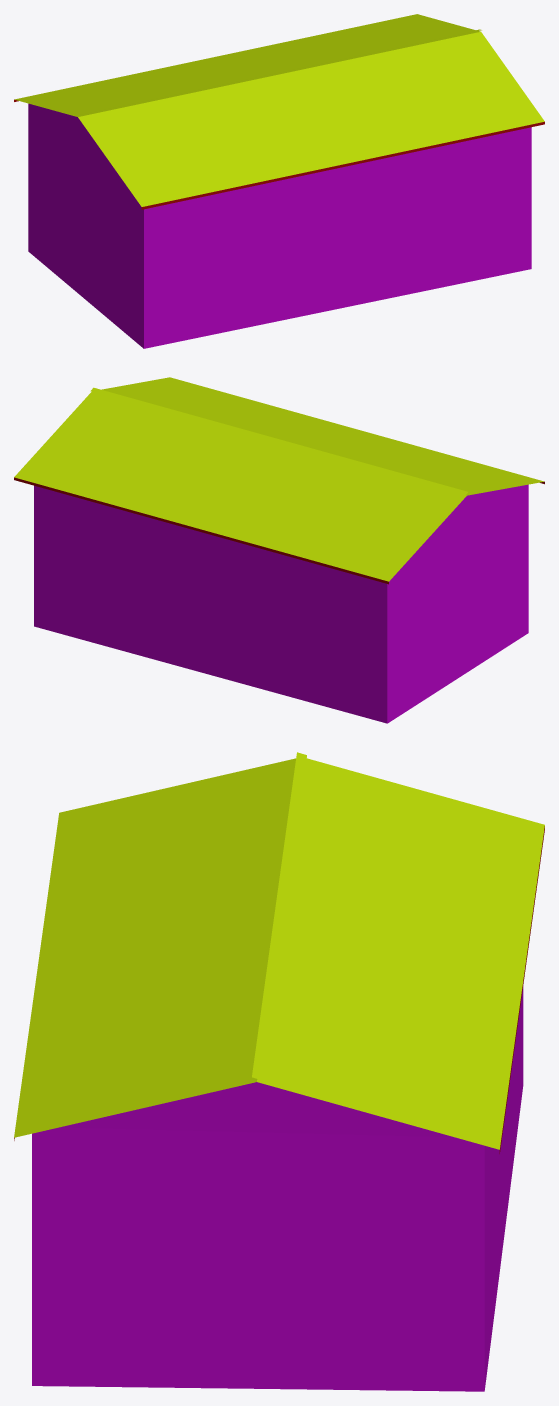
3 renders of one model, top to bottom at view 1: azimuth 30°, elevation 25°; view 2: azimuth 150°, elevation 25°; view 3: azimuth 270°, elevation 25°, orthographic. The views are drawn at different scales.
Parts seen in each view (by area): view 1: sc_73; view 2: sc_73; view 3: sc_73.
Part boxes in pixels (box(x1,y1,x2,y2)): sc_73: box(14, 14, 544, 348); sc_73: box(14, 377, 544, 723); sc_73: box(14, 752, 544, 1391).
Size of the model in its own units: 18.86 by 8.38 by 12.55.
